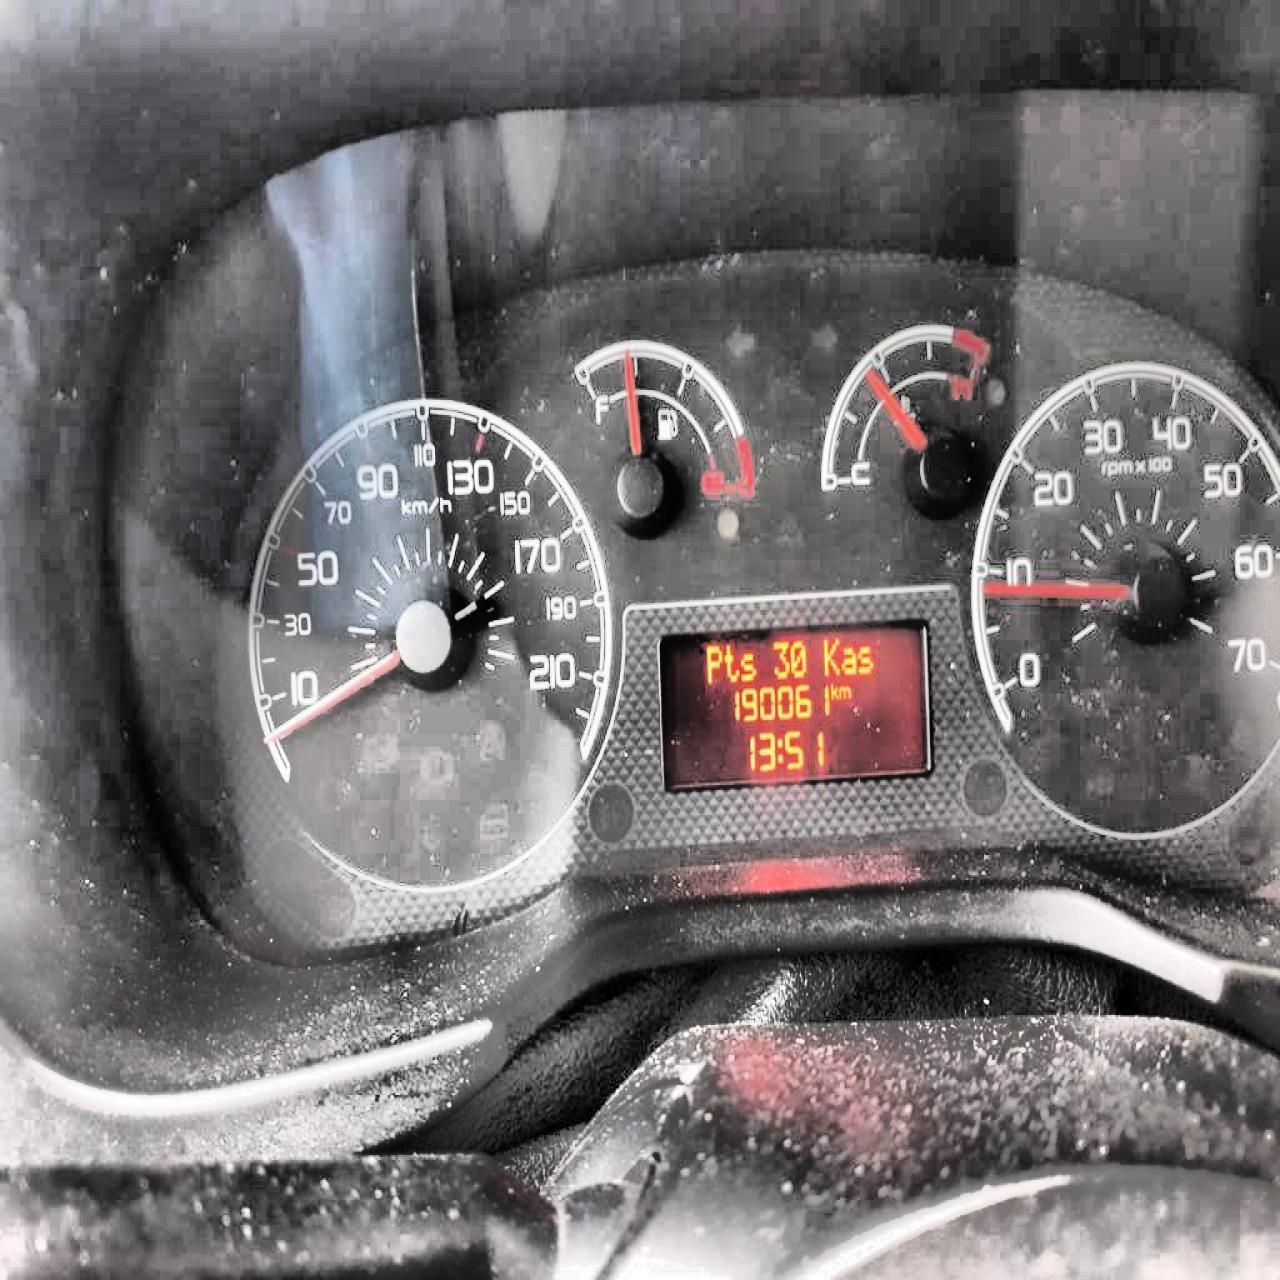0: (790, 639, 808, 676), (757, 686, 775, 722), (776, 683, 792, 720)
1: (815, 728, 826, 770), (729, 685, 740, 720), (747, 730, 755, 774), (822, 683, 830, 716)
3: (757, 728, 775, 771), (771, 639, 790, 679)
5: (783, 728, 803, 770)
6: (794, 680, 811, 719)
9: (742, 686, 757, 722)
X: (822, 633, 839, 676), (703, 641, 721, 683), (721, 644, 738, 682), (856, 644, 873, 675), (738, 651, 756, 682), (839, 644, 856, 676), (837, 685, 852, 700), (776, 735, 783, 763), (830, 680, 838, 700)
odometer: (654, 615, 945, 791)
